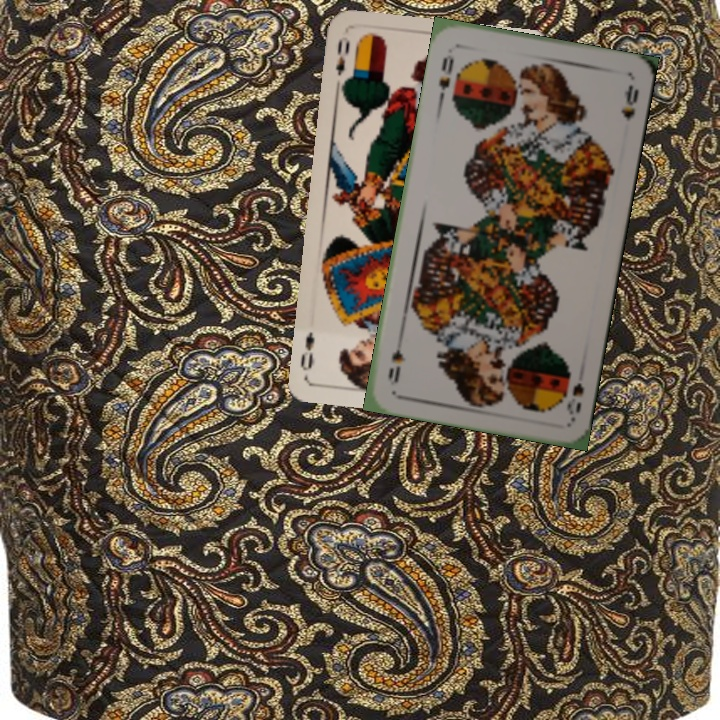EO: (331, 32, 352, 78)
SO: (562, 378, 587, 422), (434, 53, 456, 103)
